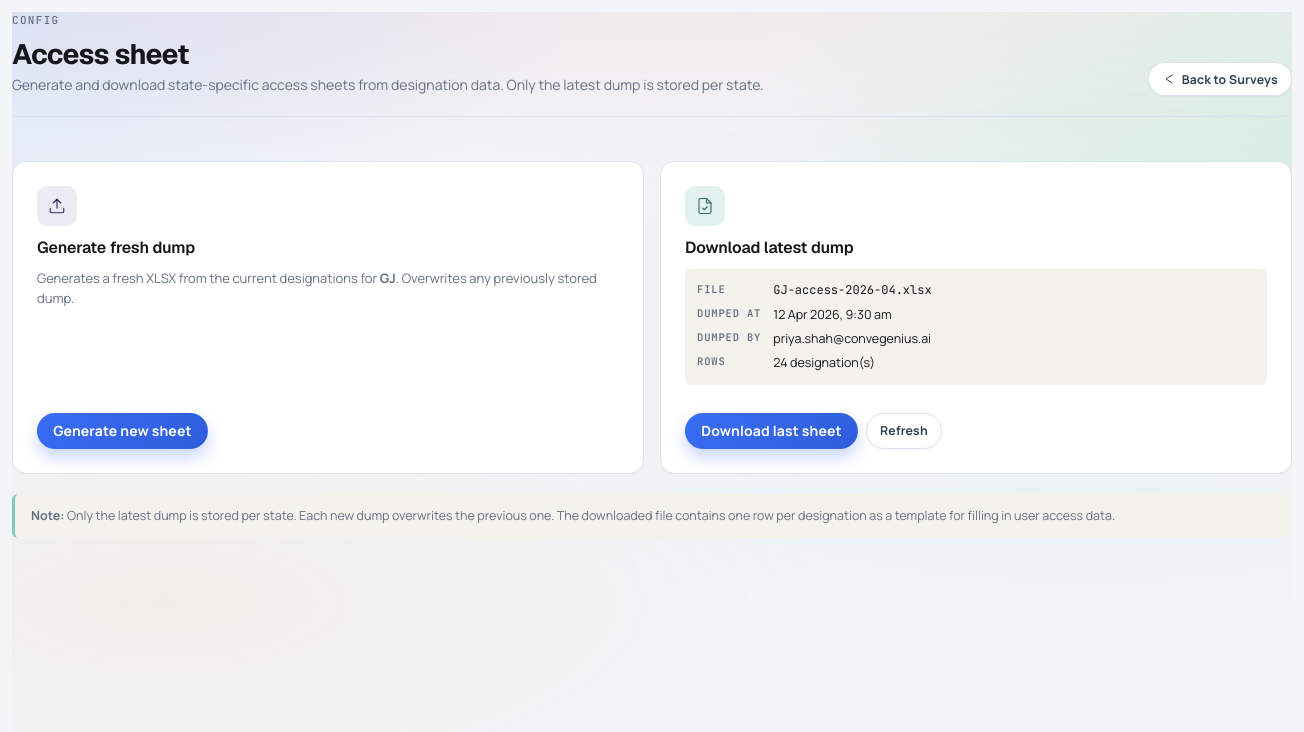
Test: AccessSheet — dump + download actions › dump generic failure surfaces the inline error banner
Expected: the element with test id "as-meta" is shown, [685,269,1267,385]
Click the button with test id "as-dump": click(122, 431) [37,412,208,449]
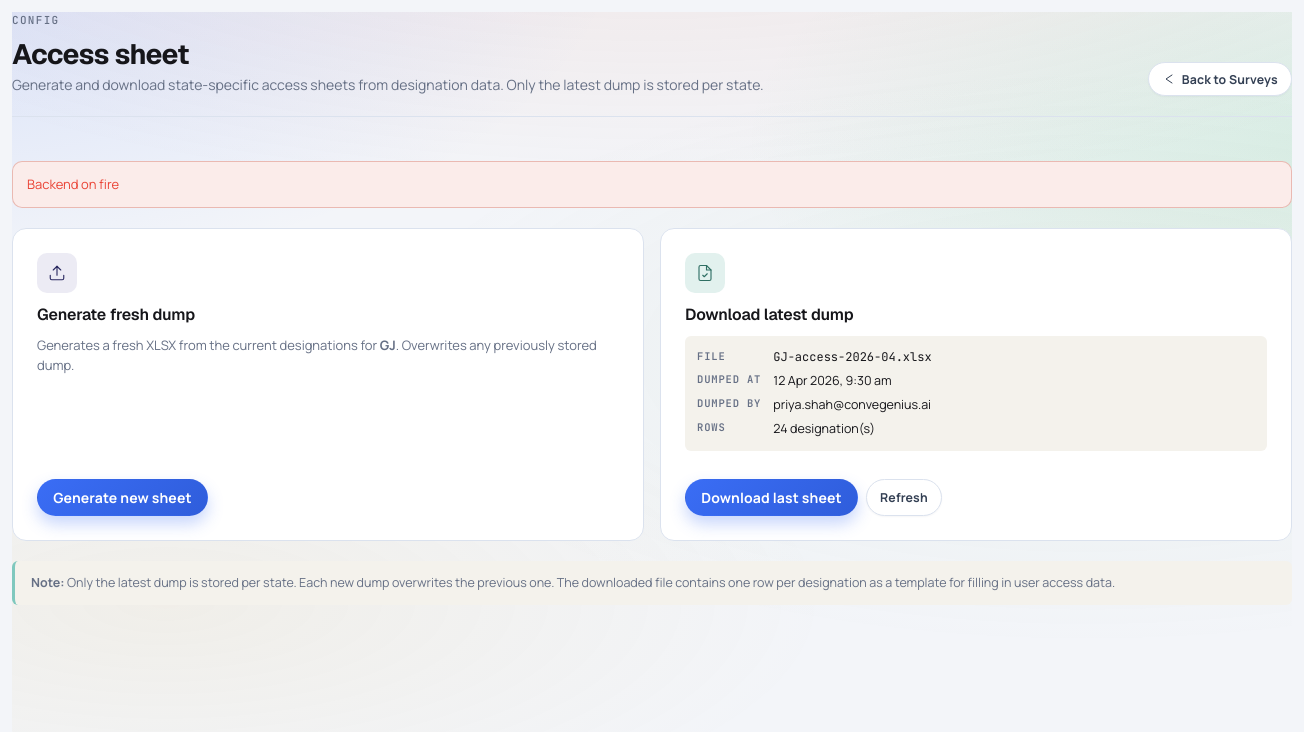
Expected: the message with test id "as-error" reads "Backend on fire", [27,175,119,193]
